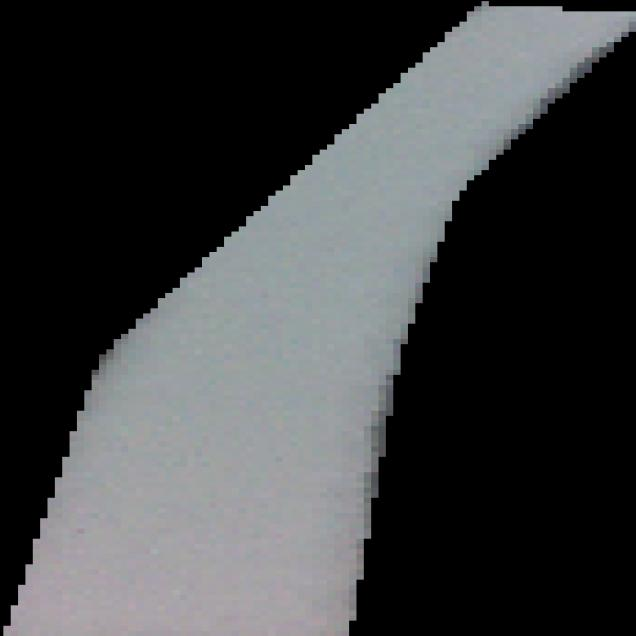lane: (1, 1, 636, 636)
